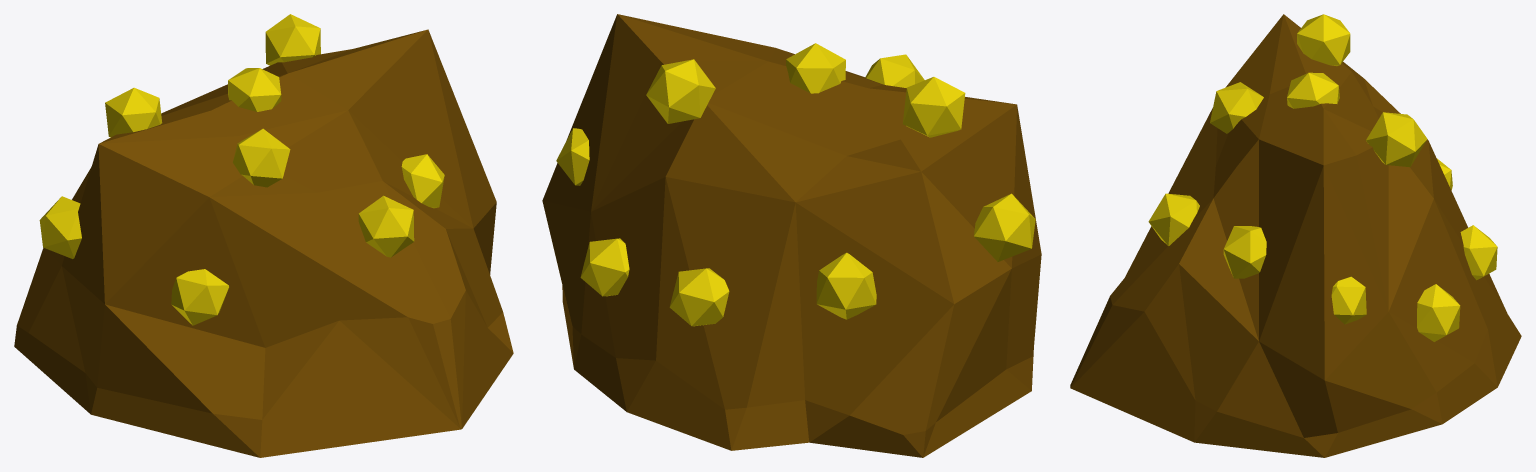
The model's file is GoldMine.fbx.
The picture shows the model from 3 angles, left to right: view 1: azimuth 30°, elevation 25°; view 2: azimuth 150°, elevation 25°; view 3: azimuth 270°, elevation 25°; orthographic projection. The views are drawn at different scales.
Parts seen in each view (by area): view 1: Gold; view 2: Gold; view 3: Gold.
Boxes of the visible parts, box(x1,y1,x2,y2) form: Gold: box(14, 14, 513, 457); Gold: box(542, 14, 1041, 457); Gold: box(1070, 14, 1521, 457).
Size of the model in its own units: 390 by 240 by 349.
